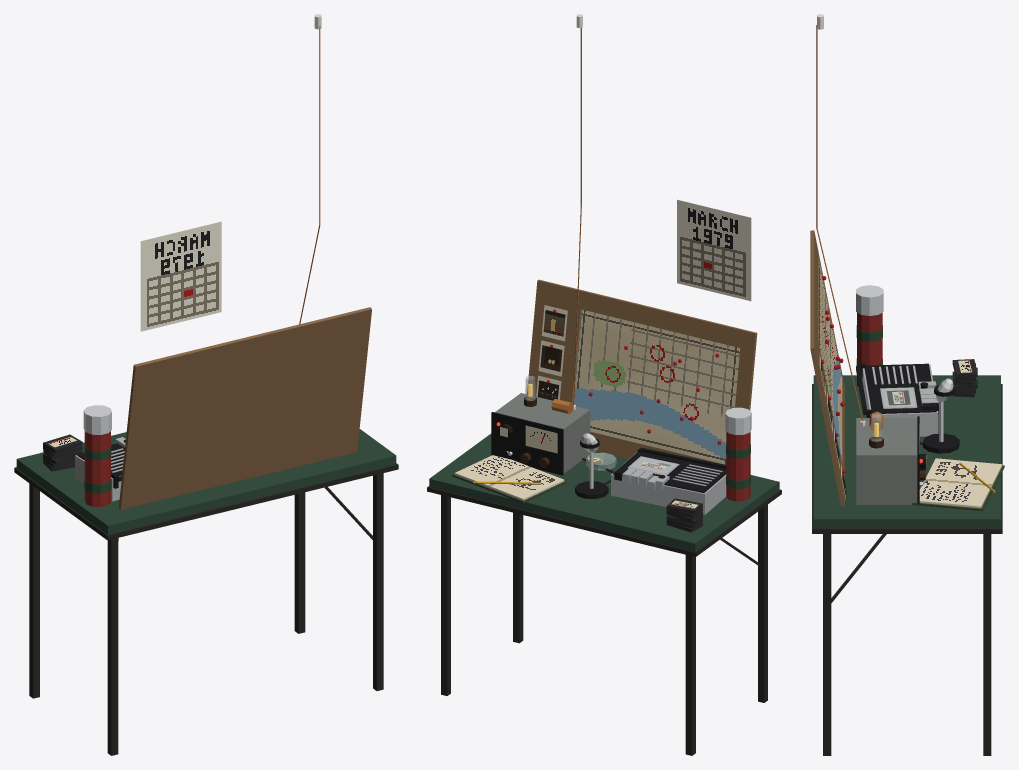
The model's file is shed_reveal.glb.
3 renders of one model, left to right at view 1: azimuth 30°, elevation 25°; view 2: azimuth 150°, elevation 25°; view 3: azimuth 270°, elevation 25°, orthographic. The views are drawn at different scales.
Parts seen in each view (by area): view 1: ShedReveal; view 2: ShedReveal; view 3: ShedReveal.
Boxes of the visible parts, box(x1,y1,x2,y2) form: ShedReveal: box(14, 14, 398, 755); ShedReveal: box(427, 14, 781, 755); ShedReveal: box(810, 14, 1004, 755).
Size of the model in its own units: 1.01 by 2.29 by 0.5709.
Materials: 40 (16 with a texture image).
